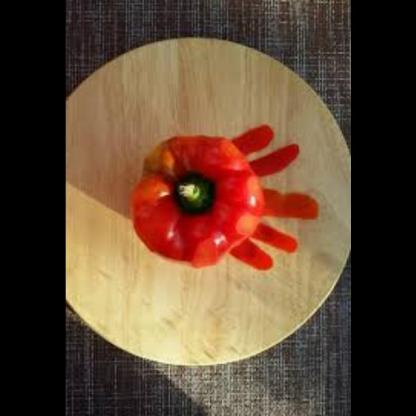bell pepper: (125, 125, 272, 275)
